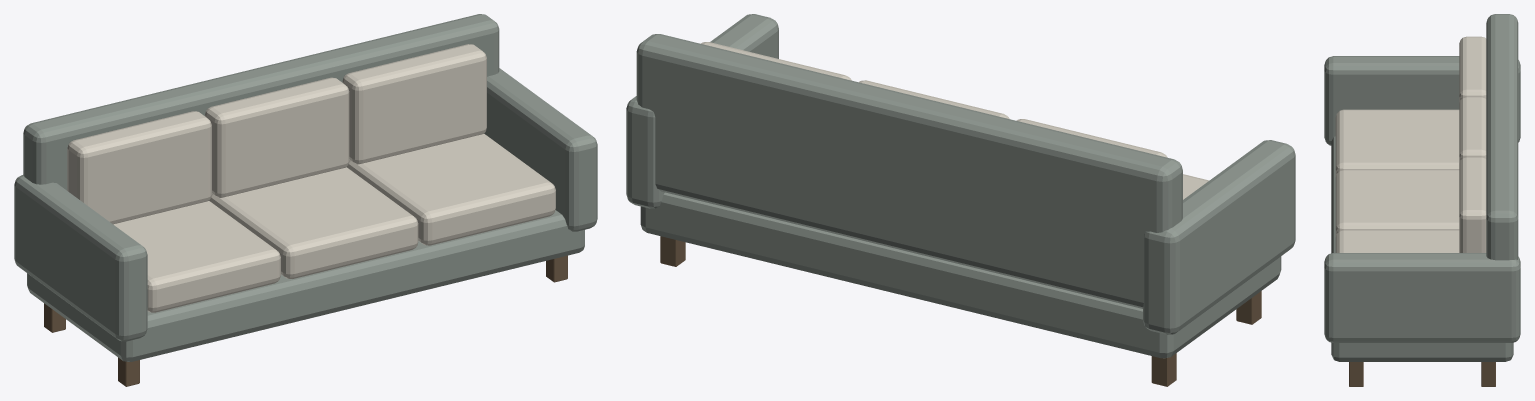
File: sofa_3seat.glb
The picture shows the model from 3 angles, left to right: view 1: azimuth 30°, elevation 25°; view 2: azimuth 150°, elevation 25°; view 3: azimuth 270°, elevation 25°; orthographic projection. The views are drawn at different scales.
Visible parts, largest first — view 1: sofa_3seat; view 2: sofa_3seat; view 3: sofa_3seat.
Part boxes in pixels (x1=…): sofa_3seat: x1=14, y1=14, x2=597, y2=386; sofa_3seat: x1=626, y1=14, x2=1295, y2=386; sofa_3seat: x1=1324, y1=14, x2=1520, y2=386.
Size of the model in its own units: 2.18 by 0.86 by 0.86.
